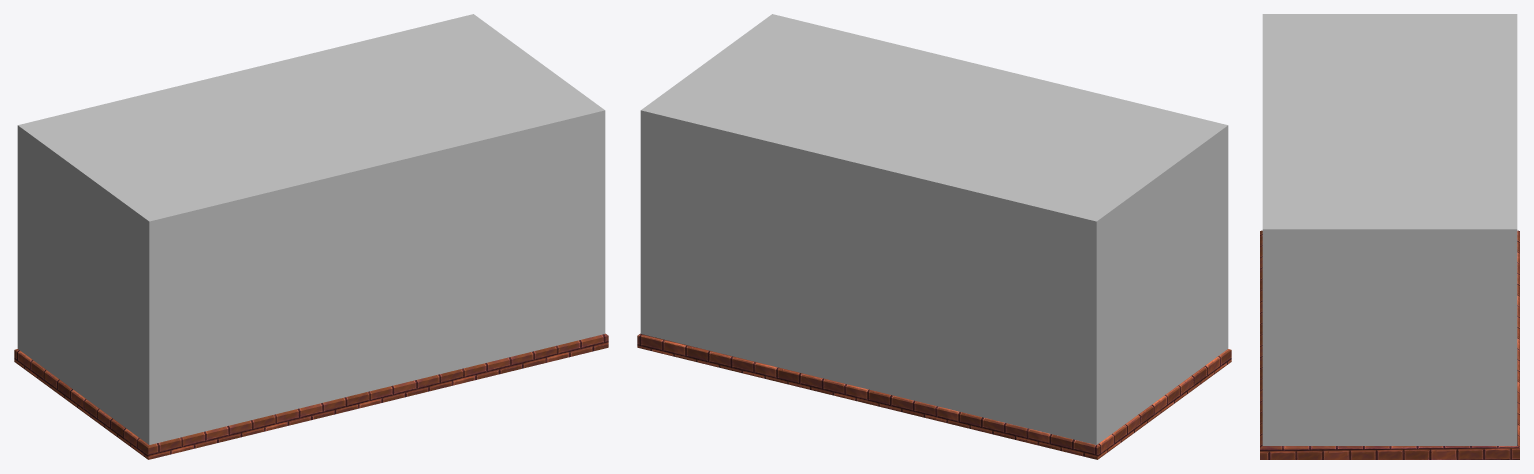
File: SM_BuildinBig.fbx
3 renders of one model, left to right at view 1: azimuth 30°, elevation 25°; view 2: azimuth 150°, elevation 25°; view 3: azimuth 270°, elevation 25°, orthographic. The views are drawn at different scales.
Parts seen in each view (by area): view 1: polySurface5; view 2: polySurface5; view 3: polySurface5.
Boxes of the visible parts, x1=… form: polySurface5: x1=14, y1=14, x2=608, y2=459; polySurface5: x1=637, y1=14, x2=1231, y2=459; polySurface5: x1=1260, y1=14, x2=1519, y2=459.
Size of the model in its own units: 1014 by 499 by 512.
